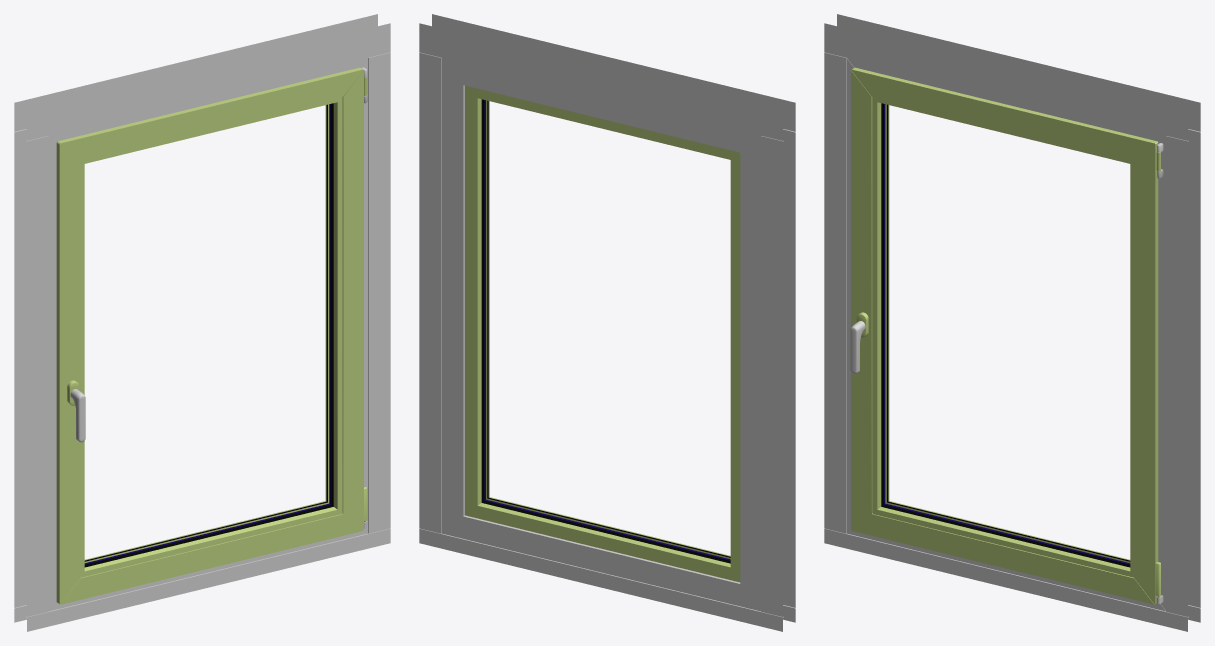
File: window.fbx
3 views of the same model, side by side, from view 1: azimuth 30°, elevation 25°; view 2: azimuth 150°, elevation 25°; view 3: azimuth 330°, elevation 25° (orthographic).
Visible parts, largest first — view 1: #WIN0003_Frame, #WIN0003_Window, #WIN0003_Handle; view 2: #WIN0003_Frame, #WIN0003_Window; view 3: #WIN0003_Frame, #WIN0003_Window, #WIN0003_Handle.
Part boxes in pixels (x1=…): #WIN0003_Frame: x1=14, y1=14, x2=390, y2=631; #WIN0003_Window: x1=56, y1=67, x2=367, y2=604; #WIN0003_Handle: x1=70, y1=389, x2=85, y2=442; #WIN0003_Frame: x1=419, y1=14, x2=795, y2=631; #WIN0003_Window: x1=465, y1=85, x2=740, y2=582; #WIN0003_Frame: x1=824, y1=14, x2=1200, y2=631; #WIN0003_Window: x1=851, y1=67, x2=1160, y2=604; #WIN0003_Handle: x1=850, y1=321, x2=865, y2=374.
Size of the model in its own units: 104 by 142 by 12.8.
